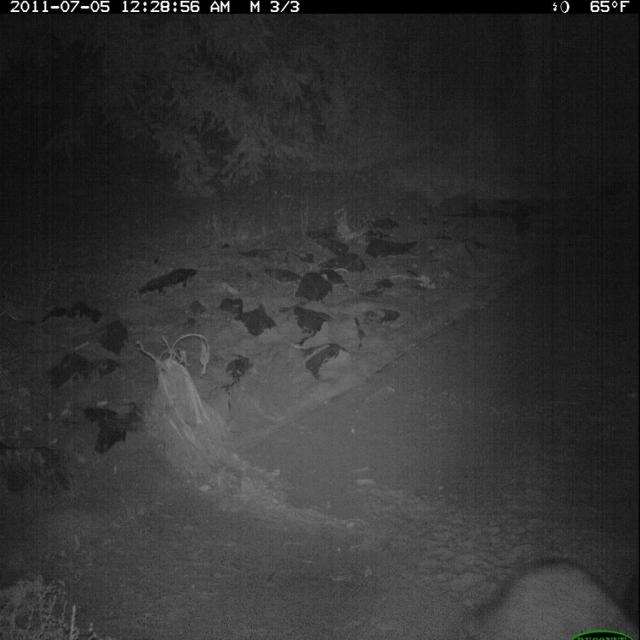raccoon: (464, 551, 640, 640)
